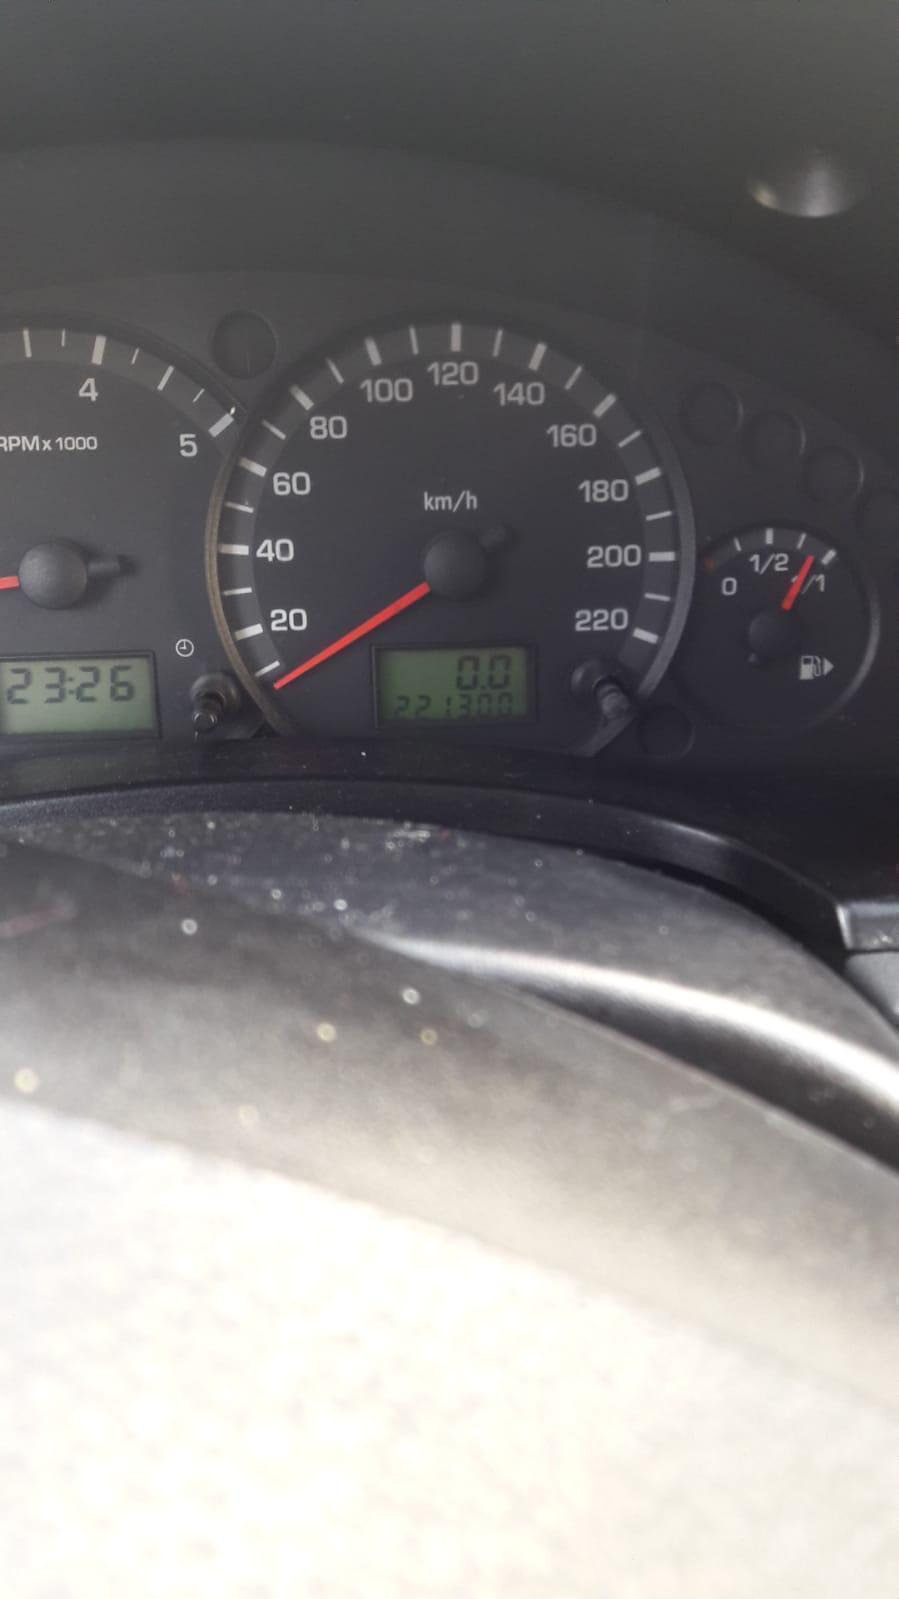,: (480, 684, 486, 690)
0: (456, 655, 480, 690), (487, 655, 512, 689), (496, 692, 512, 717), (476, 693, 491, 717)
1: (443, 695, 452, 719)
2: (393, 695, 409, 722), (414, 694, 430, 720)
3: (456, 693, 472, 718)
odometer: (375, 644, 531, 723)
